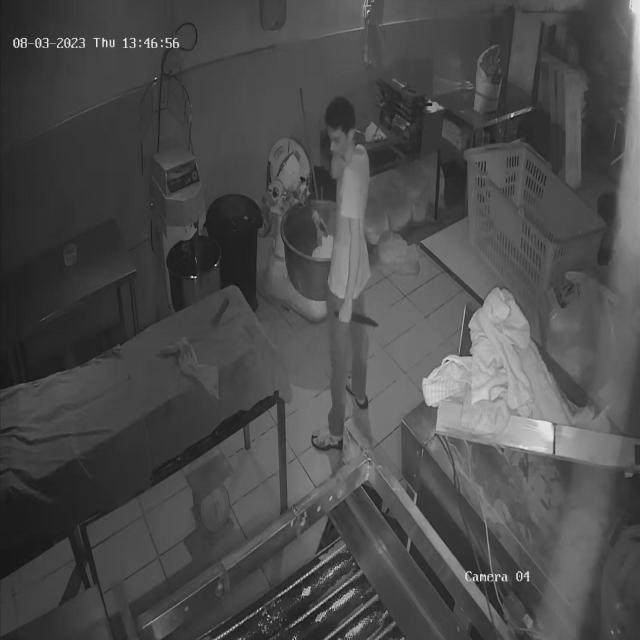Knife: (329, 303, 388, 341)
